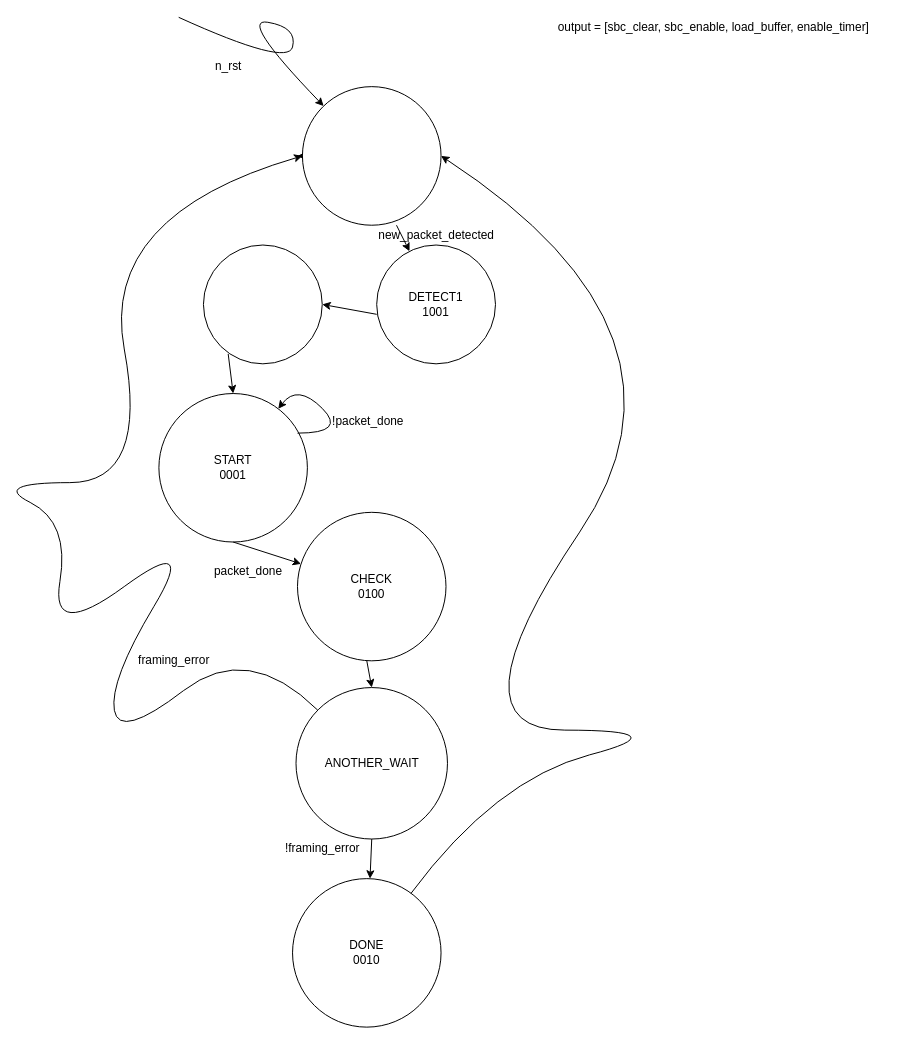
This 899x1044 diagram has some shape labels left out. The centre of each missing label's shape, as x and y in pixels:
DETECT2 0001: [262,304]
WAIT 0000: [371,155]
